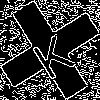K: (25, 25, 77, 82)
